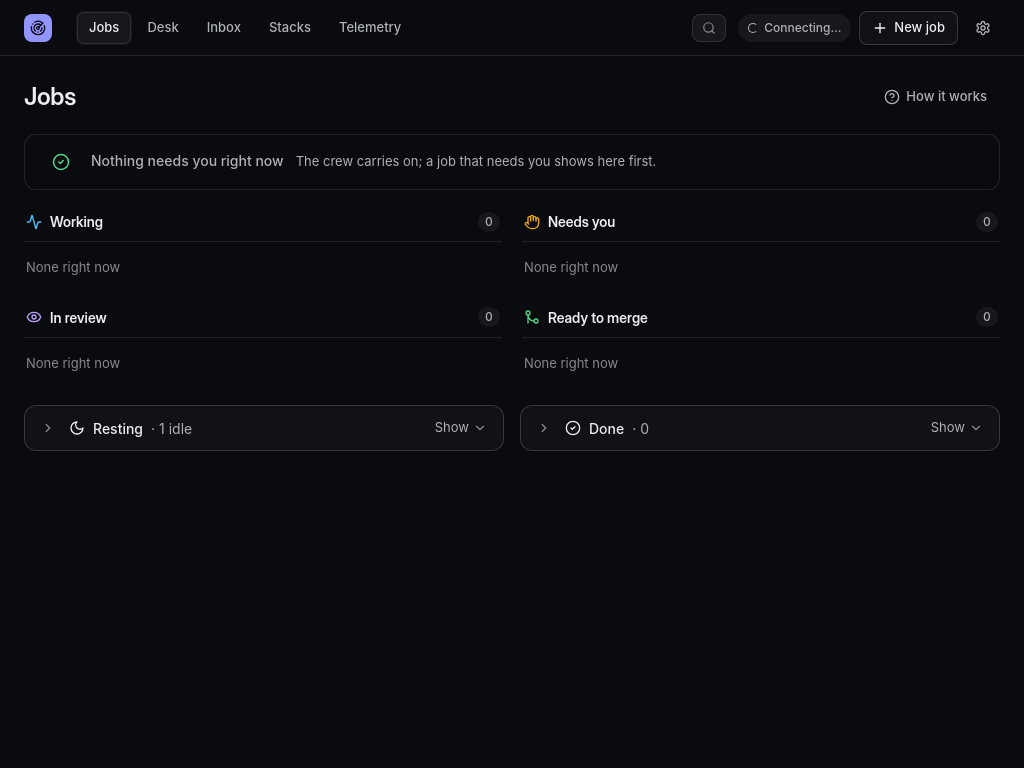
Test: ⌘K phrases › through the app: the scene plays with the toasts and the secret is found
The width and height of the screenshot is (1024, 768).
Press k
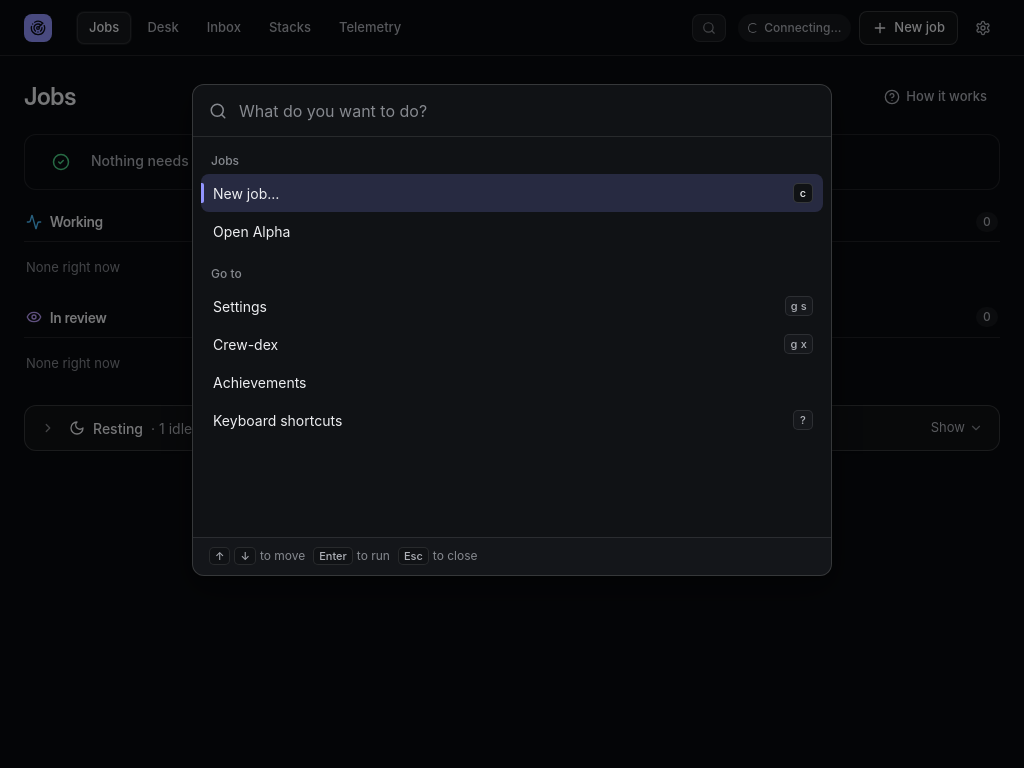
In the dropdown named "Search actions": (527, 111) [239,86,815,136], type "sudo make me a sandwich"
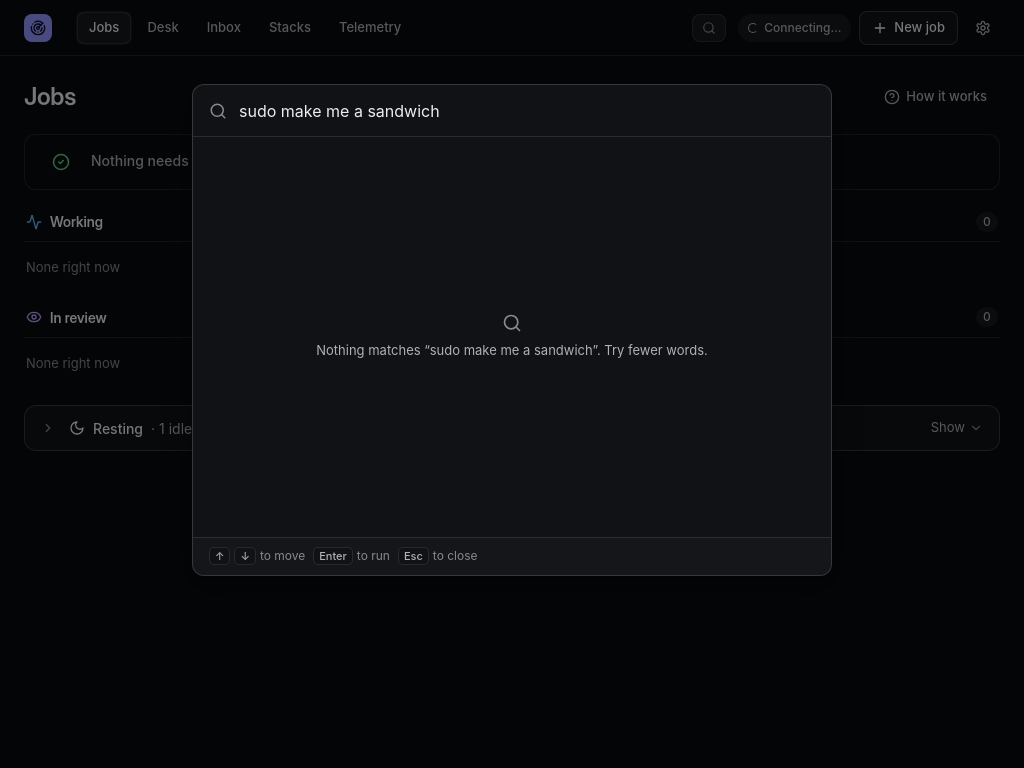
Press Enter in the dropdown named "Search actions", box [239,86,815,136]
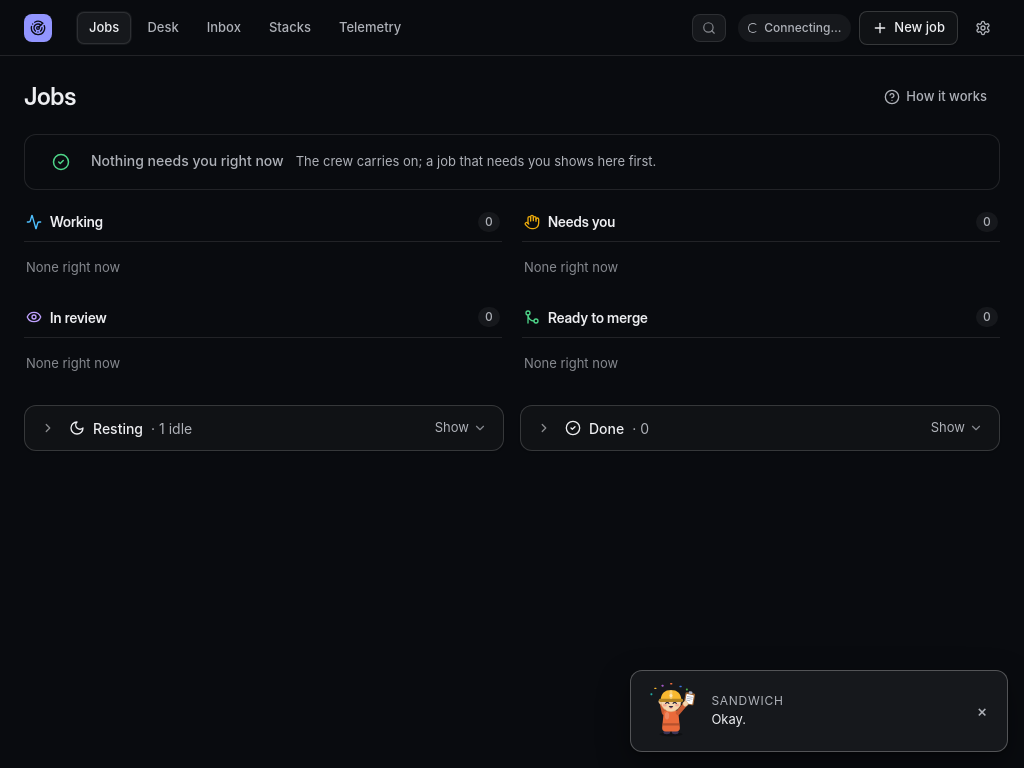
Expected: the element showing "Sandwich Okay. ×" is shown, [630,670,1008,752]
